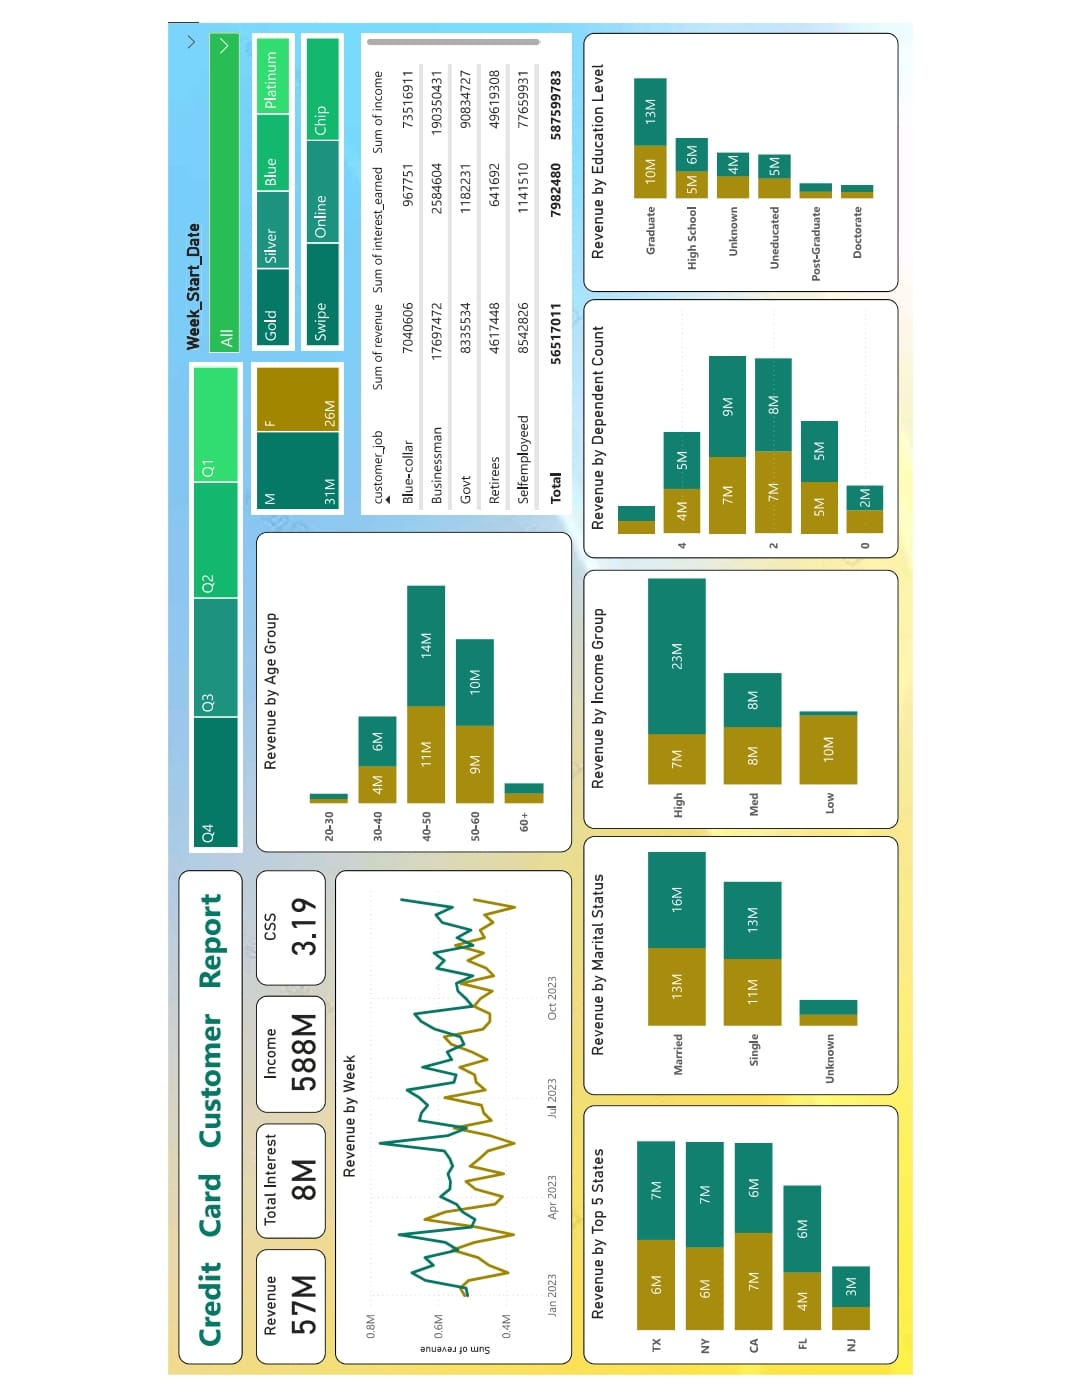

The page's visual inventory and layout, read from the dashboard file:
{"tool":"powerbi","page":{"name":"CC Customer","canvas":[1455,800],"ordinal":1},"visuals":[{"type":"textbox","box":[11,11,532.3,69.3],"z":0},{"type":"barChart","title":"Revenue by Income Group","fields":{"Y":["Sum(public cc_detail.revenue)"],"Category":["public cust_detail.income_group"],"Series":["public cust_detail.gender"]},"box":[587.4,445.7,278.7,338.6],"z":1000},{"type":"tableEx","fields":{"Values":["public cust_detail.customer_job","Sum(public cc_detail.revenue)","Sum(public cc_detail.interest_earned)","Sum(public cust_detail.income)"]},"box":[926,207.9,518.1,225.2],"z":2000},{"type":"card","title":"Revenue","fields":{"Values":["Sum(public cc_detail.revenue)"]},"box":[11,94.5,124.4,75],"z":3000},{"type":"card","title":"Income","fields":{"Values":["Sum(public cust_detail.income)"]},"box":[281.9,94.5,126,75],"z":4000},{"type":"card","title":"Total Interest","fields":{"Values":["Sum(public cc_detail.interest_earned)"]},"box":[146.5,94.5,124.4,75],"z":5000},{"type":"card","title":"CSS","fields":{"Values":["Avg(public cust_detail.cust_satisfaction_score)"]},"box":[418.9,94.5,124.4,75],"z":6000},{"type":"slicer","fields":{"Values":["public cc_detail.week_start_date"]},"box":[1089.8,11,365.4,69.3],"z":7000},{"type":"treemap","fields":{"Group":["public cc_detail.qtr"],"Values":["Avg(public cc_detail.client_num)"]},"box":[562.2,22,527.6,58.3],"z":8000},{"type":"treemap","fields":{"Group":["public cc_detail.use_chip"],"Values":["Avg(public cc_detail.client_num)"]},"box":[1102.4,143.3,341.7,45.7],"z":9000},{"type":"treemap","fields":{"Group":["public cc_detail.card_category"],"Values":["Avg(public cc_detail.client_num)"]},"box":[1102.4,89.8,341.7,45.7],"z":10000},{"type":"lineChart","title":"Revenue by Week","fields":{"Y":["Sum(public cc_detail.revenue)"],"Series":["public cust_detail.gender"],"Category":["public cc_detail.week_start_date.Variation.Date Hierarchy.Year","public cc_detail.week_start_date.Variation.Date Hierarchy.Month","public cc_detail.week_start_date.Variation.Date Hierarchy.Day"]},"box":[11,179.5,532.3,253.5],"z":11000},{"type":"treemap","fields":{"Group":["public cust_detail.gender"],"Values":["Sum(public cc_detail.revenue)"]},"box":[926,89.8,163.8,99.2],"z":12000},{"type":"barChart","title":"Revenue by Age Group","fields":{"Y":["Sum(public cc_detail.revenue)"],"Category":["public cust_detail.age_group"],"Series":["public cust_detail.gender"]},"box":[562.2,94.5,344.9,338.6],"z":13000},{"type":"barChart","title":"Revenue by Dependent Count","fields":{"Y":["Sum(public cc_detail.revenue)"],"Category":["public cust_detail.dependent_count"],"Series":["public cust_detail.gender"]},"box":[878.7,445.7,278.7,338.6],"z":14000},{"type":"barChart","title":"Revenue by Education Level","fields":{"Y":["Sum(public cc_detail.revenue)"],"Category":["public cust_detail.education_level"],"Series":["public cust_detail.gender"]},"box":[1165.4,445.7,278.7,338.6],"z":15000},{"type":"barChart","title":"Revenue by Top 5 States","fields":{"Y":["Sum(public cc_detail.revenue)"],"Category":["public cust_detail.state_cd"],"Series":["public cust_detail.gender"]},"box":[11,445.7,279,338.6],"z":16000},{"type":"barChart","title":"Revenue by Marital Status","fields":{"Y":["Sum(public cc_detail.revenue)"],"Category":["public cust_detail.marital_status"],"Series":["public cust_detail.gender"]},"box":[300.8,445.7,278.7,338.6],"z":17000}]}

Visuals, with their boxes on the page's 1455x800 design canvas (x1, y1, x2, y2). These are canvas units, not pixel positions in the 1080x1397 screenshot, which may show the page scaled, cropped or inside an application window:
textbox: bbox(11, 11, 543, 80)
"Revenue by Income Group" barChart: bbox(587, 446, 866, 784)
tableEx - public cust_detail.customer_job x Sum(public cc_detail.revenue): bbox(926, 208, 1444, 433)
"Revenue" card: bbox(11, 94, 135, 170)
"Income" card: bbox(282, 94, 408, 170)
"Total Interest" card: bbox(146, 94, 271, 170)
"CSS" card: bbox(419, 94, 543, 170)
slicer - public cc_detail.week_start_date: bbox(1090, 11, 1455, 80)
treemap - public cc_detail.qtr x Avg(public cc_detail.client_num): bbox(562, 22, 1090, 80)
treemap - public cc_detail.use_chip x Avg(public cc_detail.client_num): bbox(1102, 143, 1444, 189)
treemap - public cc_detail.card_category x Avg(public cc_detail.client_num): bbox(1102, 90, 1444, 136)
"Revenue by Week" lineChart: bbox(11, 180, 543, 433)
treemap - public cust_detail.gender x Sum(public cc_detail.revenue): bbox(926, 90, 1090, 189)
"Revenue by Age Group" barChart: bbox(562, 94, 907, 433)
"Revenue by Dependent Count" barChart: bbox(879, 446, 1157, 784)
"Revenue by Education Level" barChart: bbox(1165, 446, 1444, 784)
"Revenue by Top 5 States" barChart: bbox(11, 446, 290, 784)
"Revenue by Marital Status" barChart: bbox(301, 446, 580, 784)
